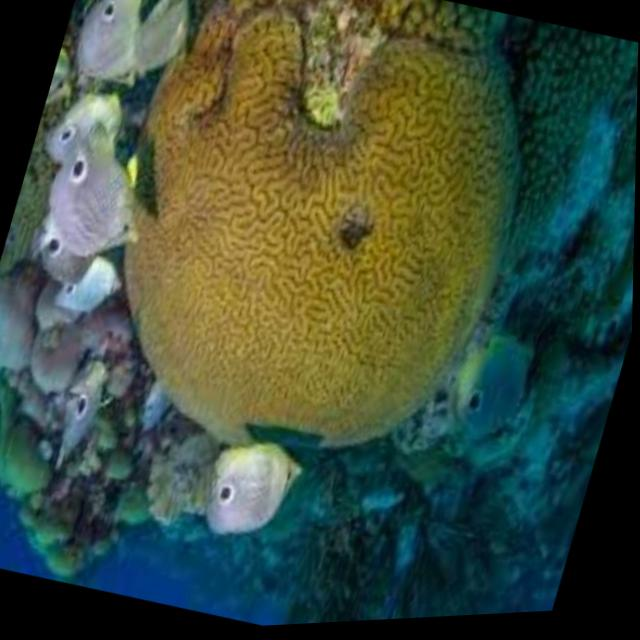Healthy Coral: (38, 0, 593, 518)
